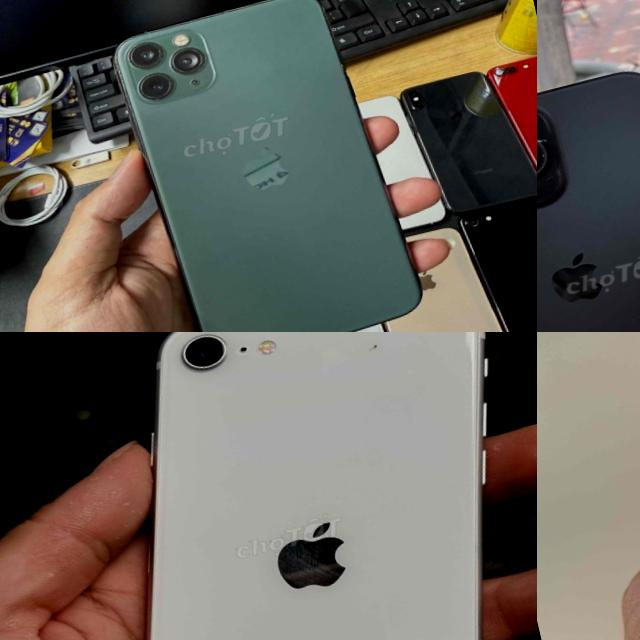scratch: (367, 334, 382, 353)
